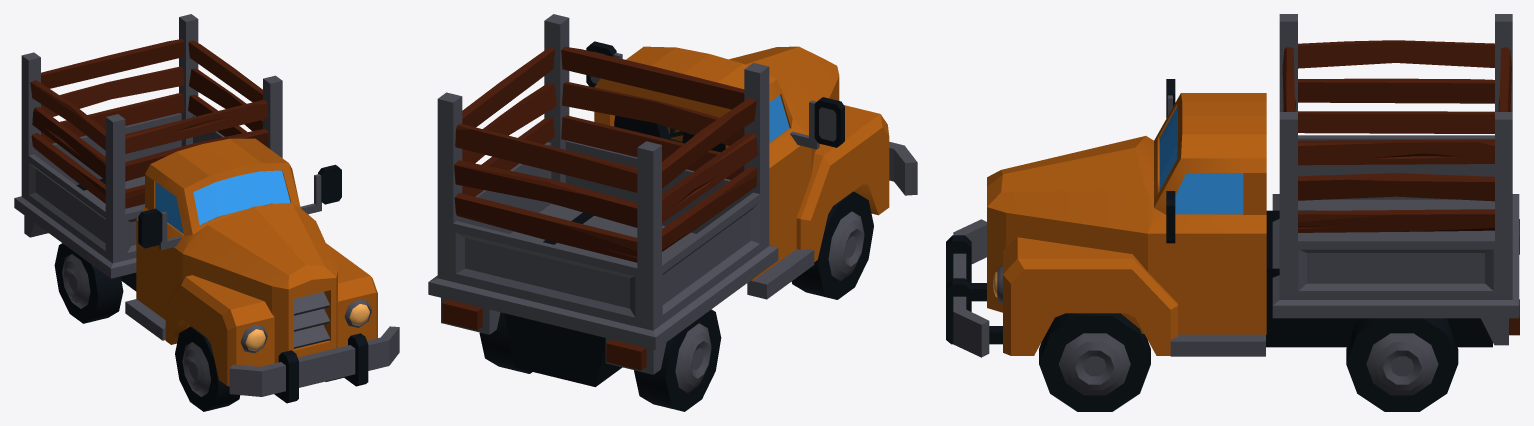
Rendered from Truck.fbx.
The picture shows the model from 3 angles, left to right: view 1: azimuth 30°, elevation 25°; view 2: azimuth 150°, elevation 25°; view 3: azimuth 270°, elevation 25°; orthographic projection. The views are drawn at different scales.
Parts seen in each view (by area): view 1: Truck; view 2: Truck; view 3: Truck.
Part boxes in pixels (x1,y1,x2,y2): Truck: [14, 14, 399, 411]; Truck: [428, 14, 917, 411]; Truck: [946, 14, 1519, 411].
Bounding box in the file's own units: 81.7 × 91.53 × 159.
